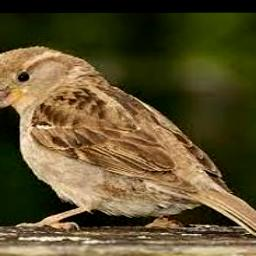Sparrow: (0, 46, 256, 241)
